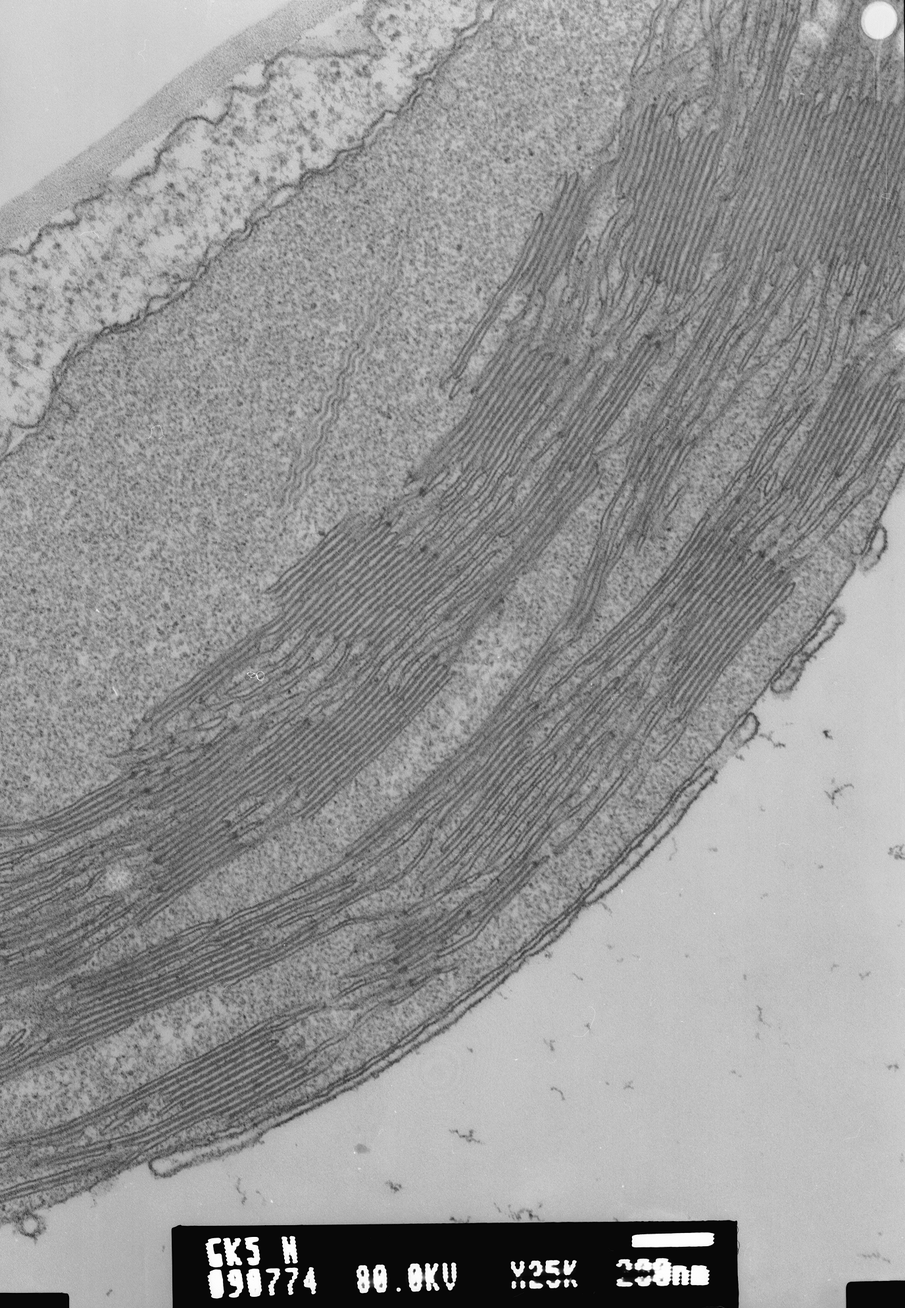granum: (718, 19, 905, 331), (494, 330, 666, 546), (338, 697, 547, 868), (250, 652, 459, 819), (400, 315, 581, 487), (452, 452, 608, 647), (262, 510, 468, 654), (659, 528, 801, 716), (144, 711, 275, 911), (128, 1014, 312, 1154), (609, 97, 735, 300), (778, 356, 904, 505), (131, 624, 266, 736), (503, 163, 608, 301), (64, 955, 216, 1047), (202, 909, 326, 991), (66, 932, 198, 1001), (376, 899, 471, 985), (625, 432, 698, 541), (37, 775, 147, 844), (558, 532, 629, 636), (459, 851, 553, 929), (0, 932, 97, 1001), (852, 395, 905, 487), (503, 635, 572, 702), (0, 1030, 53, 1092), (35, 1113, 89, 1154)
